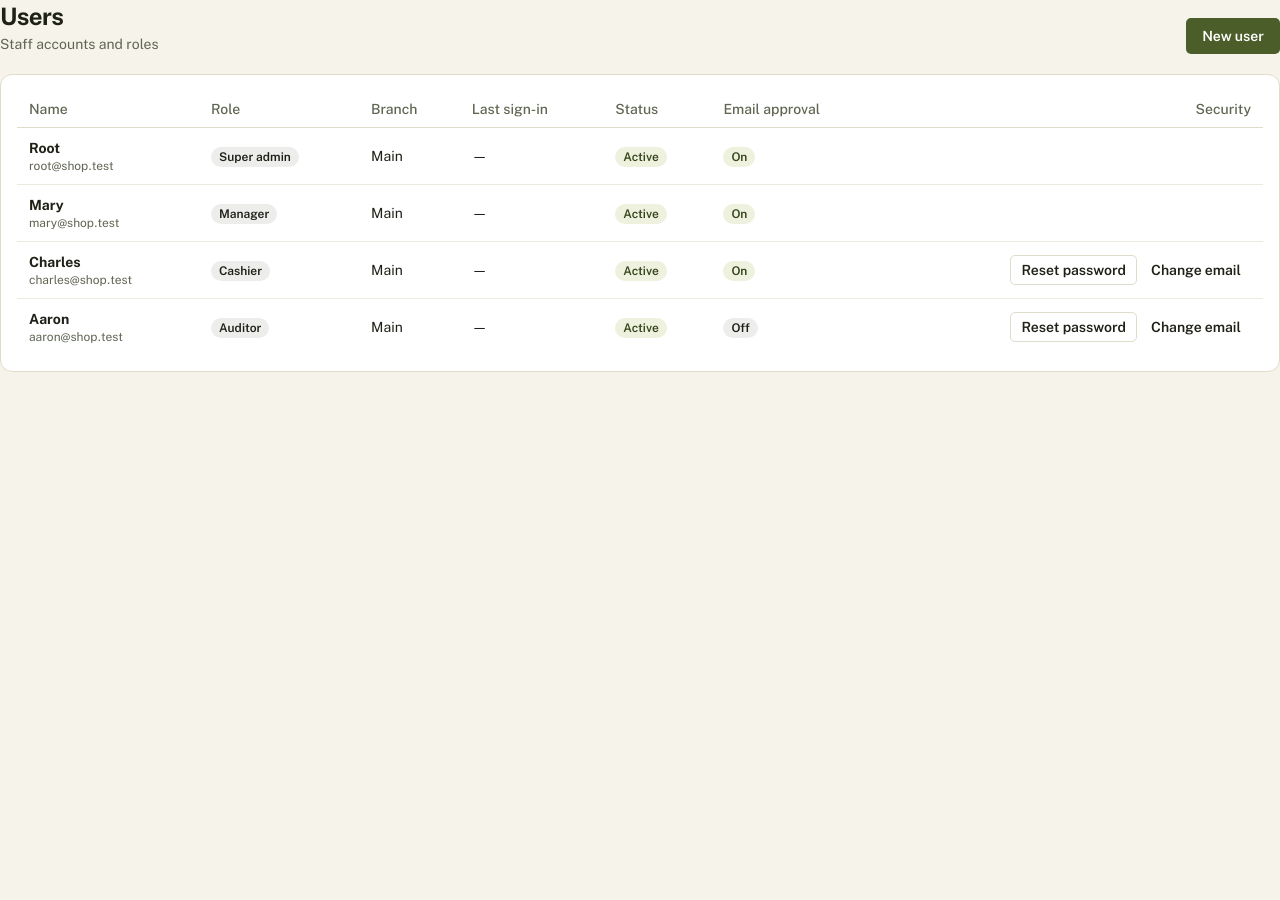
Test case: resetting passwords and correcting emails by role › no longer offers a password field when editing an existing user
Click the text "Aaron" at point(49, 319), box [29,311,69,327]
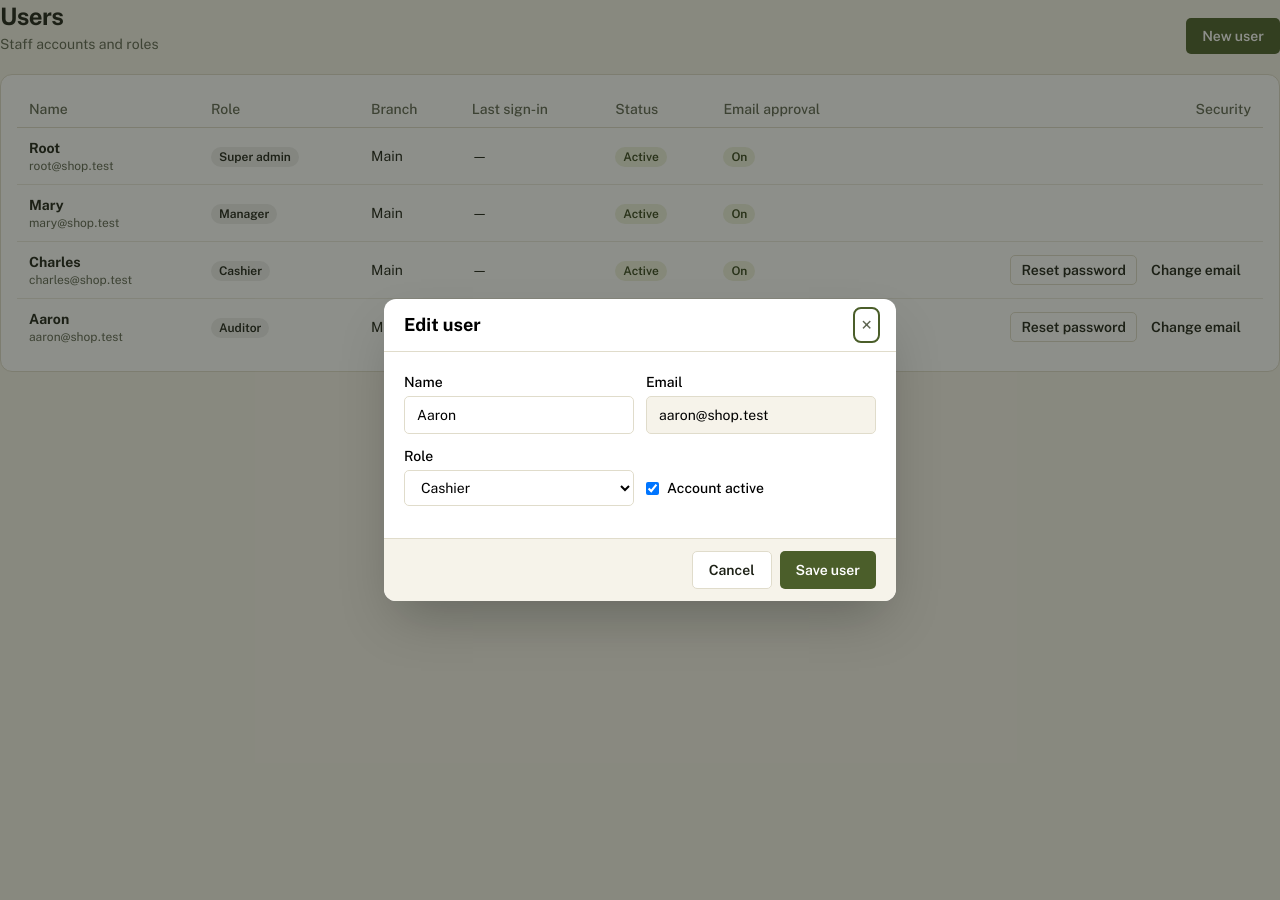
Result: the heading "Edit user" is shown at [404,311,481,339]
